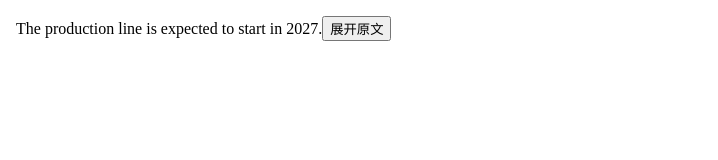
it: QuoteSlot › 展开态可收起，且 aria-expanded 如实反映
Step 1. Click the button with test id "quote-expand" → (357, 28), box [322,16,392,41]
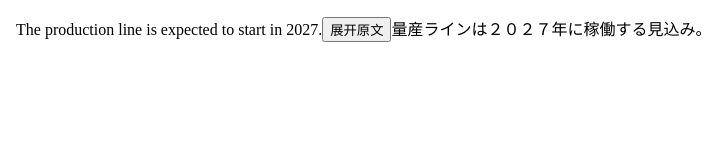
Now the button with test id "quote-expand" is expanded
Step 2. Click the button with test id "quote-expand" → (357, 30), box [322,17,392,42]
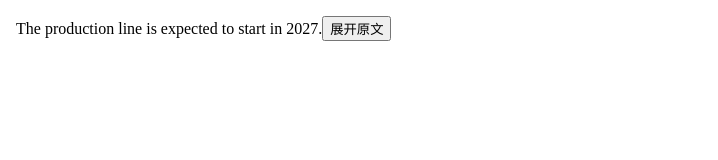
Now the text with test id "quote-original" is gone
